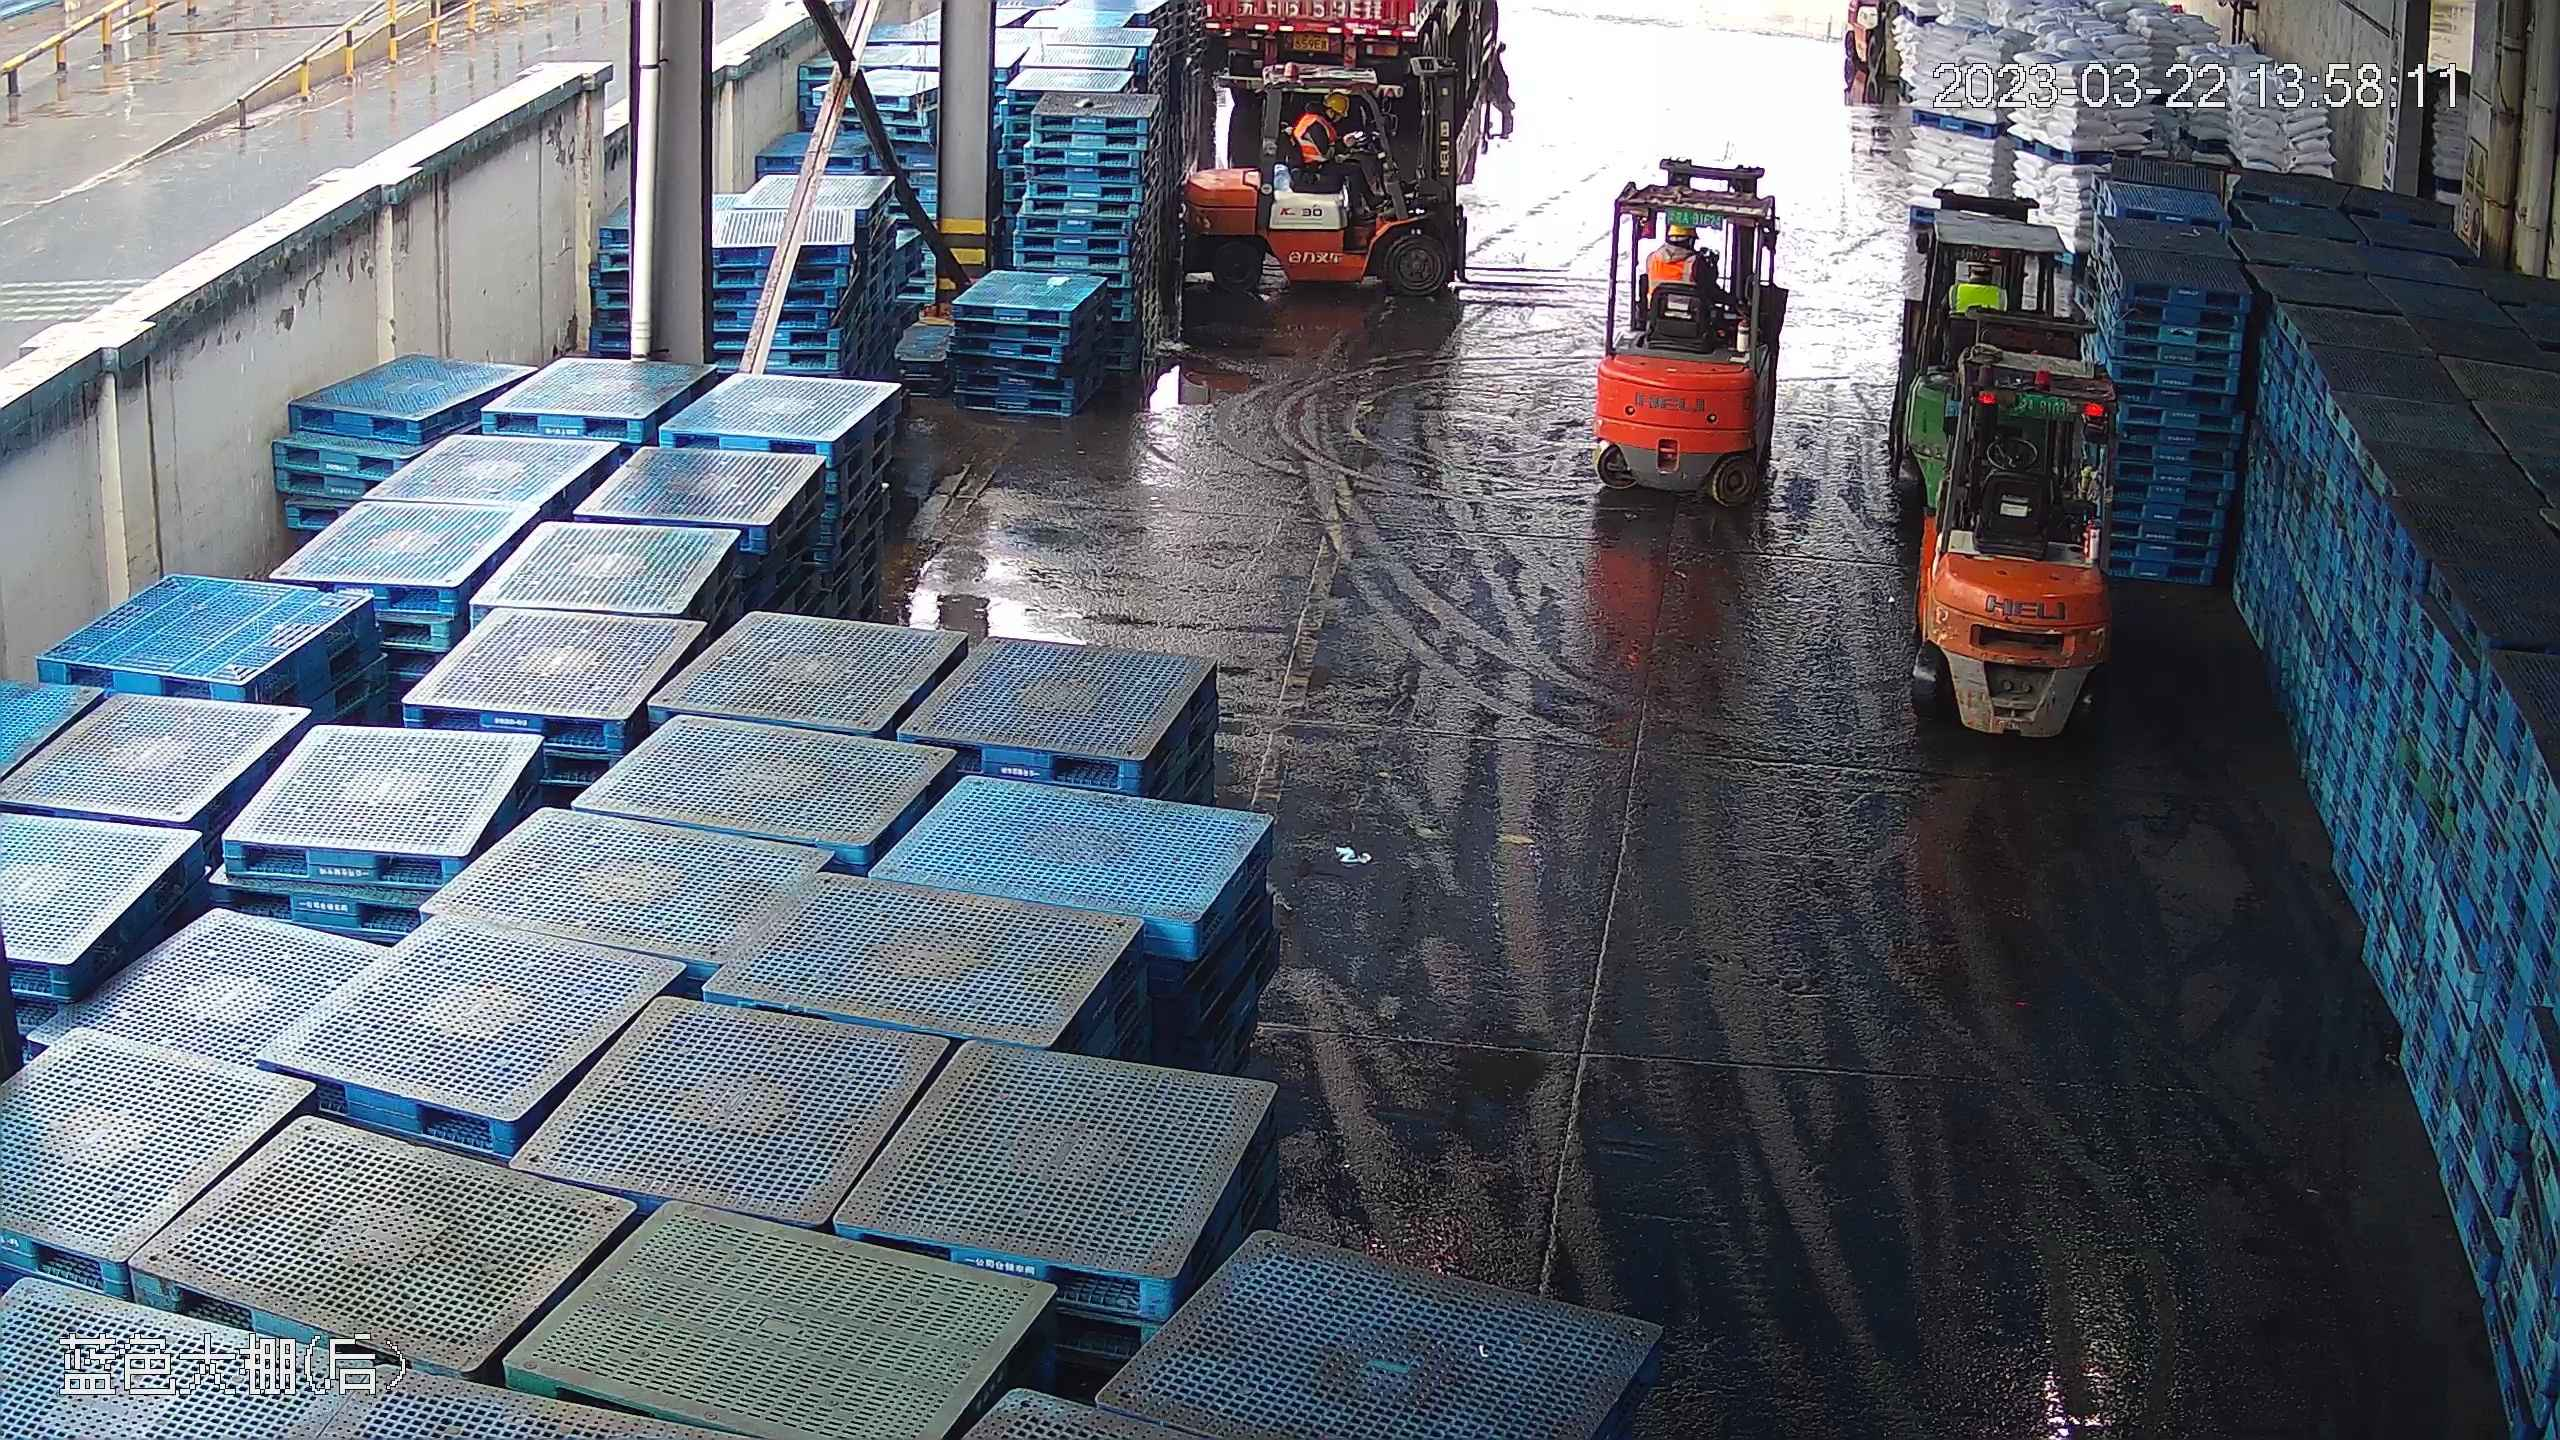head: (1654, 216, 1712, 278), (1298, 92, 1353, 143)
helmet: (1666, 214, 1701, 239), (1320, 91, 1348, 114)
people: (1288, 90, 1377, 204)
